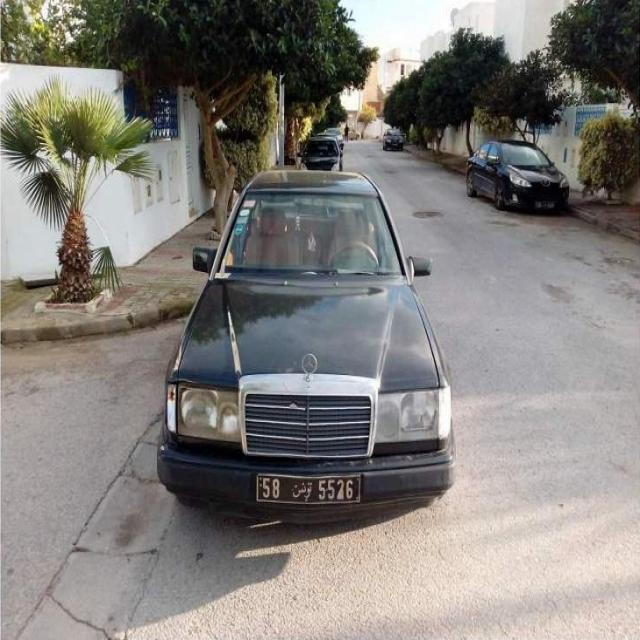licence plate: (258, 476, 359, 501)
